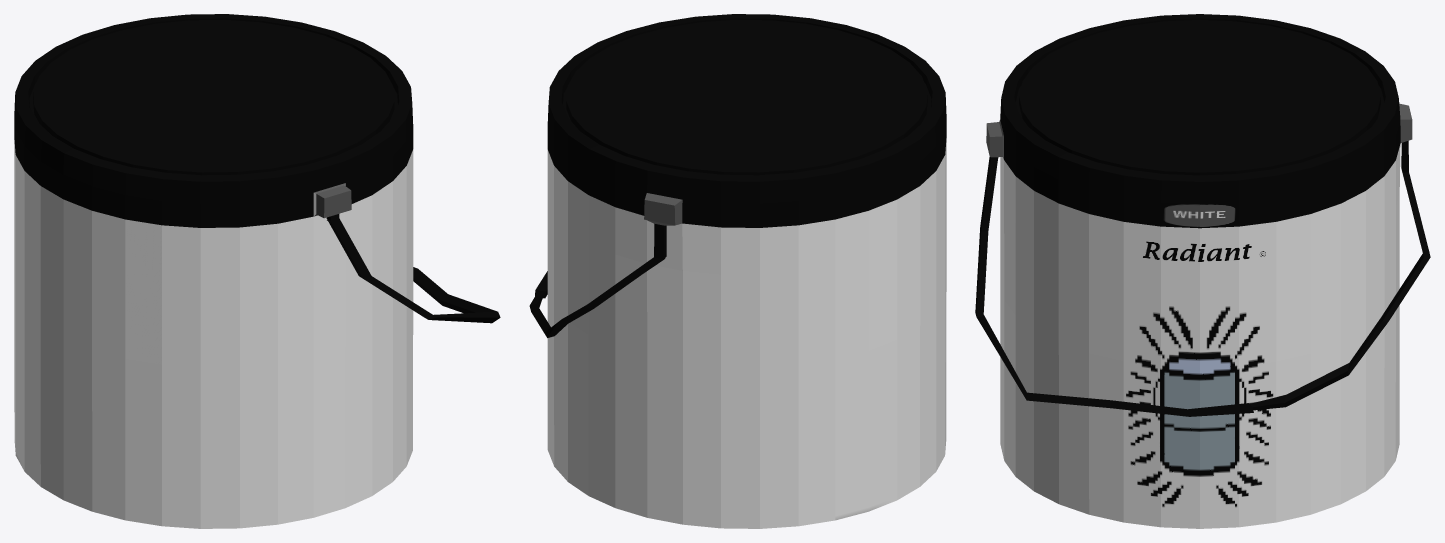
Rendered from whitebase.fbx.
3 views of the same model, side by side, from view 1: azimuth 30°, elevation 25°; view 2: azimuth 150°, elevation 25°; view 3: azimuth 270°, elevation 25° (orthographic).
Parts seen in each view (by area): view 1: Cylinder, Cylinder.001; view 2: Cylinder, Cylinder.001; view 3: Cylinder, Cylinder.001.
Boxes of the visible parts, left/top/right/bottom form: Cylinder: left=14, top=14, right=500, bottom=528; Cylinder.001: left=29, top=19, right=397, bottom=175; Cylinder: left=529, top=14, right=946, bottom=528; Cylinder.001: left=563, top=19, right=931, bottom=175; Cylinder: left=975, top=14, right=1430, bottom=528; Cylinder.001: left=1015, top=19, right=1384, bottom=175.
Bounding box in the file's own units: 215 × 192 × 227.
